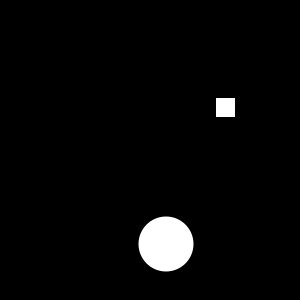circle: (216, 98, 235, 117)
rectangle: (138, 216, 194, 272)
